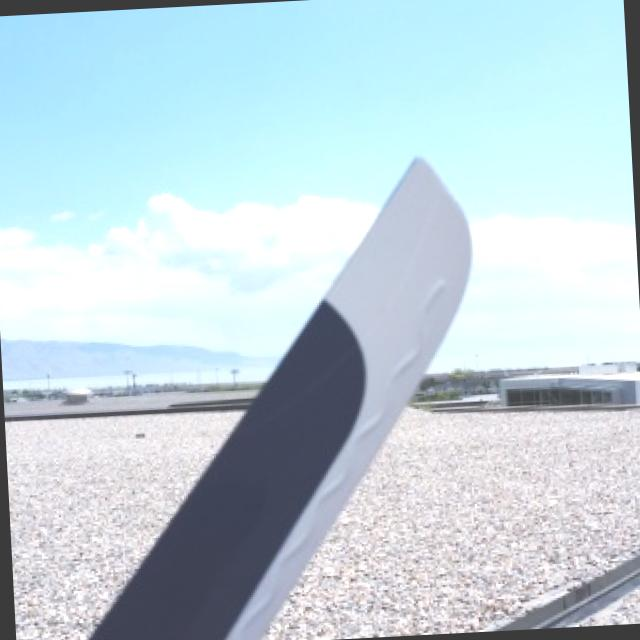healthy: (91, 159, 473, 640)
